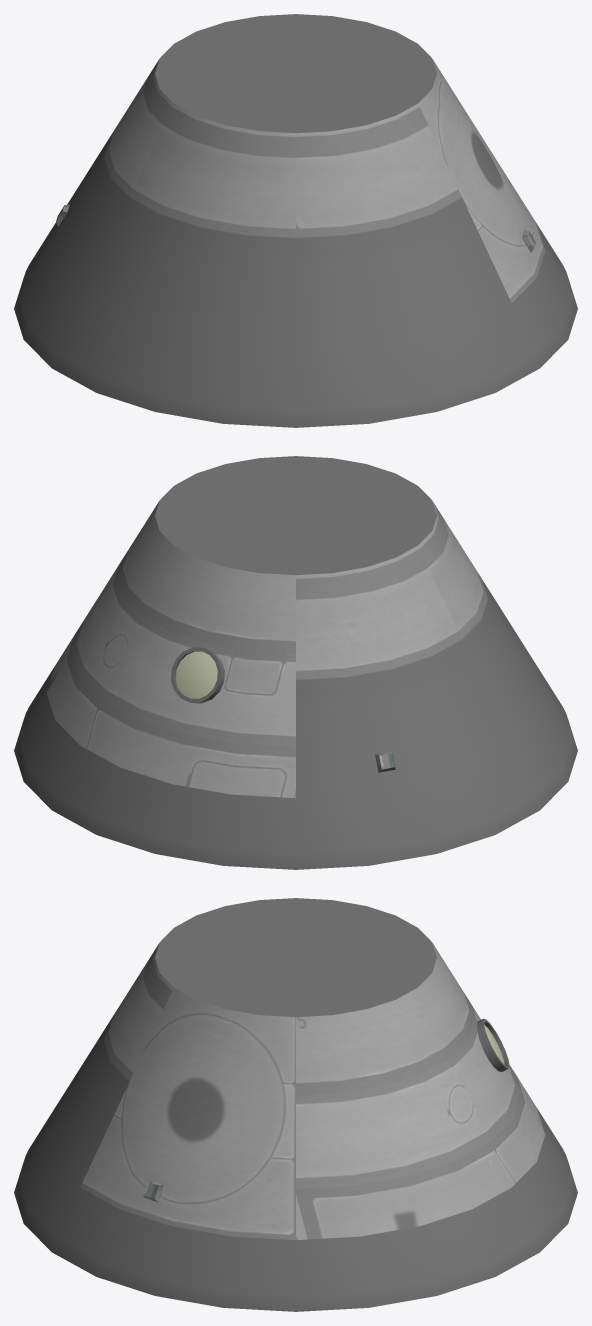
Rendered from Alnair_Crew_1.obj.
3 views of the same model, one above another, from view 1: azimuth 30°, elevation 25°; view 2: azimuth 150°, elevation 25°; view 3: azimuth 270°, elevation 25° (orthographic).
Visible parts, largest first — view 1: Alnair_Crew_1; view 2: Alnair_Crew_1, Cylinder29_cut31; view 3: Alnair_Crew_1.
Boxes of the visible parts, left/top/right/bottom form: Alnair_Crew_1: left=14, top=14, right=577, bottom=427; Alnair_Crew_1: left=14, top=456, right=577, bottom=869; Cylinder29_cut31: left=175, top=651, right=217, bottom=698; Alnair_Crew_1: left=14, top=898, right=577, bottom=1311.
Bounding box in the file's own units: 1.88 × 0.8625 × 1.88.
